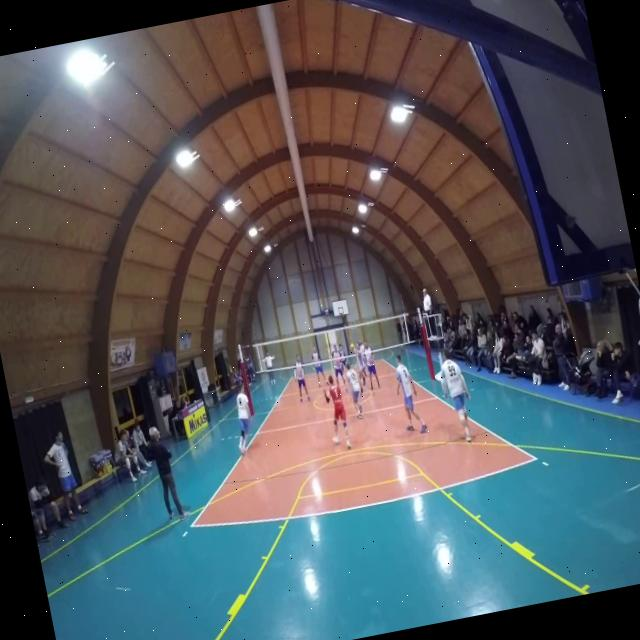Volleyball: (348, 340, 358, 352)
